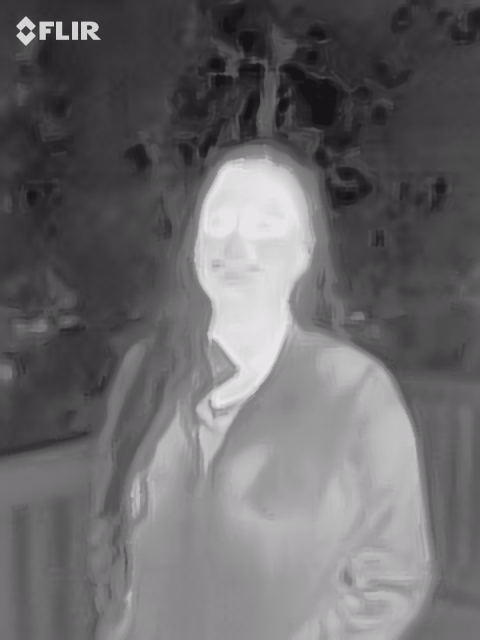head: (195, 148, 315, 301)
